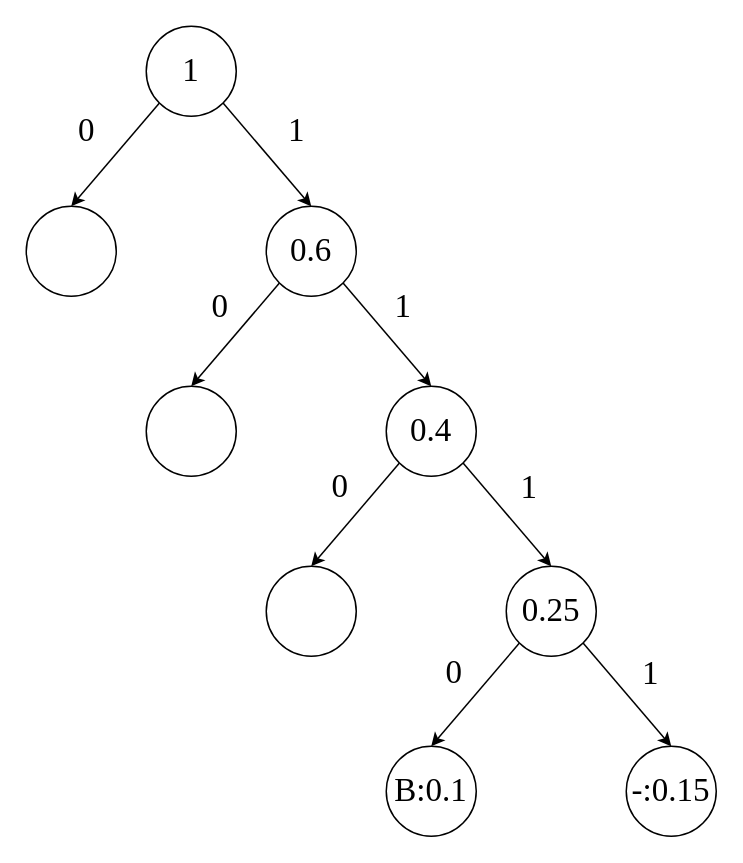
The diagram is 743 pixels wide and 863 high, and some of its shapes have lost their labels. Each missing label, with the centre of its shape:
"A:0.4" belongs at [70,250].
"C:0.2" belongs at [190,430].
"D:0.15" belongs at [310,610].
